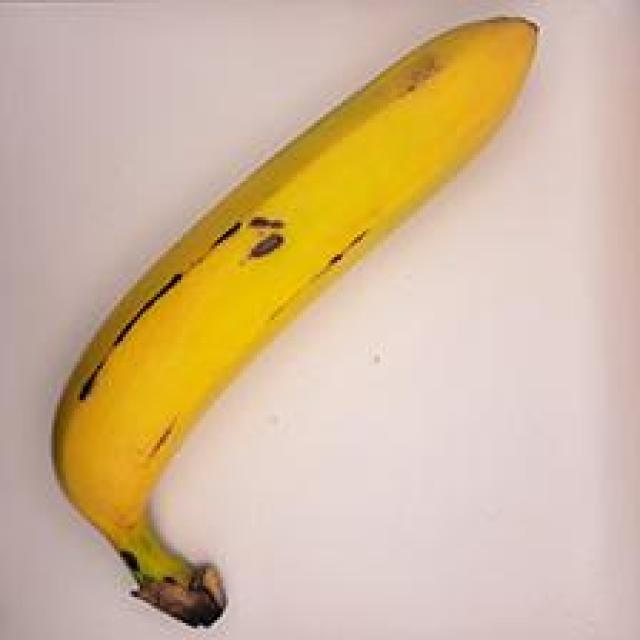ripe: (41, 4, 562, 616)
